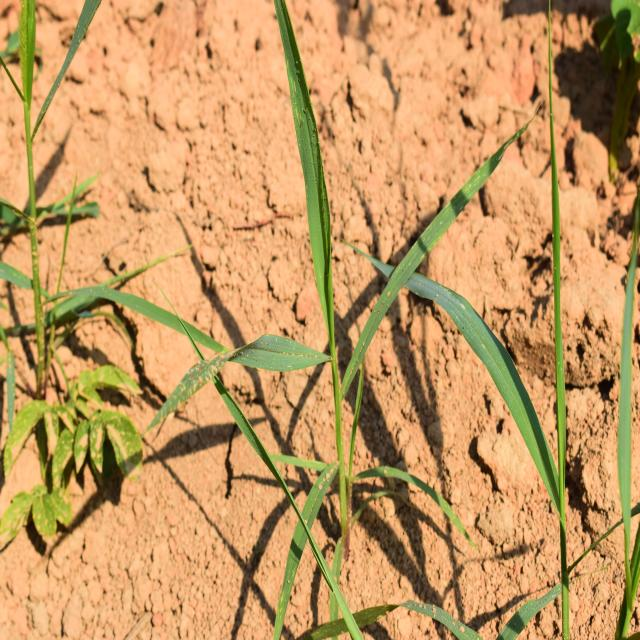green_foxtail: (202, 51, 479, 549), (439, 132, 595, 504)
